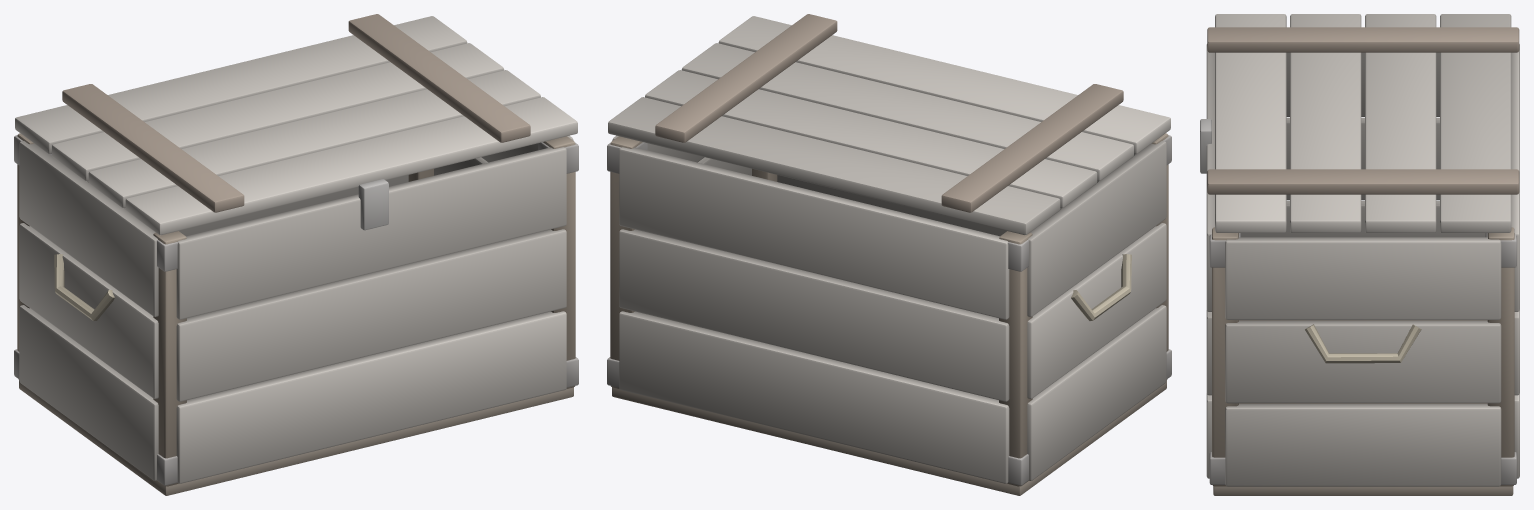
Rendered from small-box.glb.
3 views of the same model, side by side, from view 1: azimuth 30°, elevation 25°; view 2: azimuth 150°, elevation 25°; view 3: azimuth 270°, elevation 25° (orthographic).
Parts seen in each view (by area): view 1: Body_LOD0, Lid_LOD0; view 2: Body_LOD0, Lid_LOD0; view 3: Body_LOD0, Lid_LOD0.
Boxes of the visible parts, x1,y1,x2,y2 form: Body_LOD0: (14,133,578,495); Lid_LOD0: (15,14,577,235); Body_LOD0: (607,133,1171,495); Lid_LOD0: (608,14,1170,235); Body_LOD0: (1206,44,1519,495); Lid_LOD0: (1200,14,1519,232).
Size of what is drawn, in the model's own units: 0.8748 by 0.534 by 0.533.
